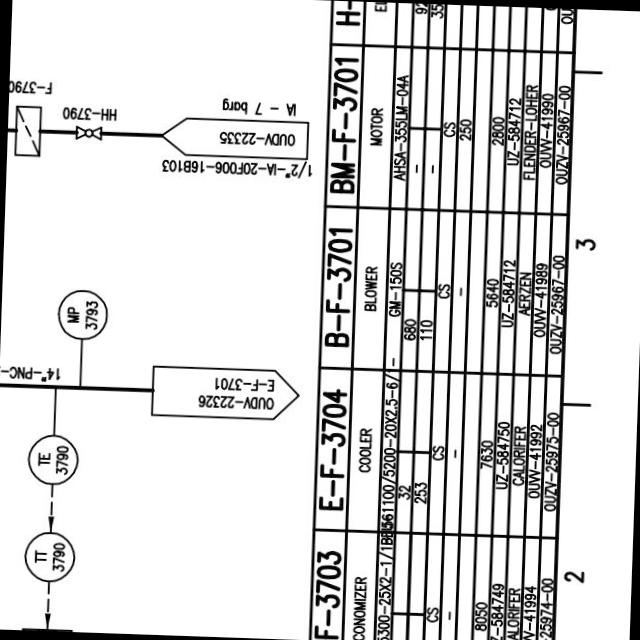BV2: (66, 120, 103, 144)
F2: (10, 96, 46, 162)
